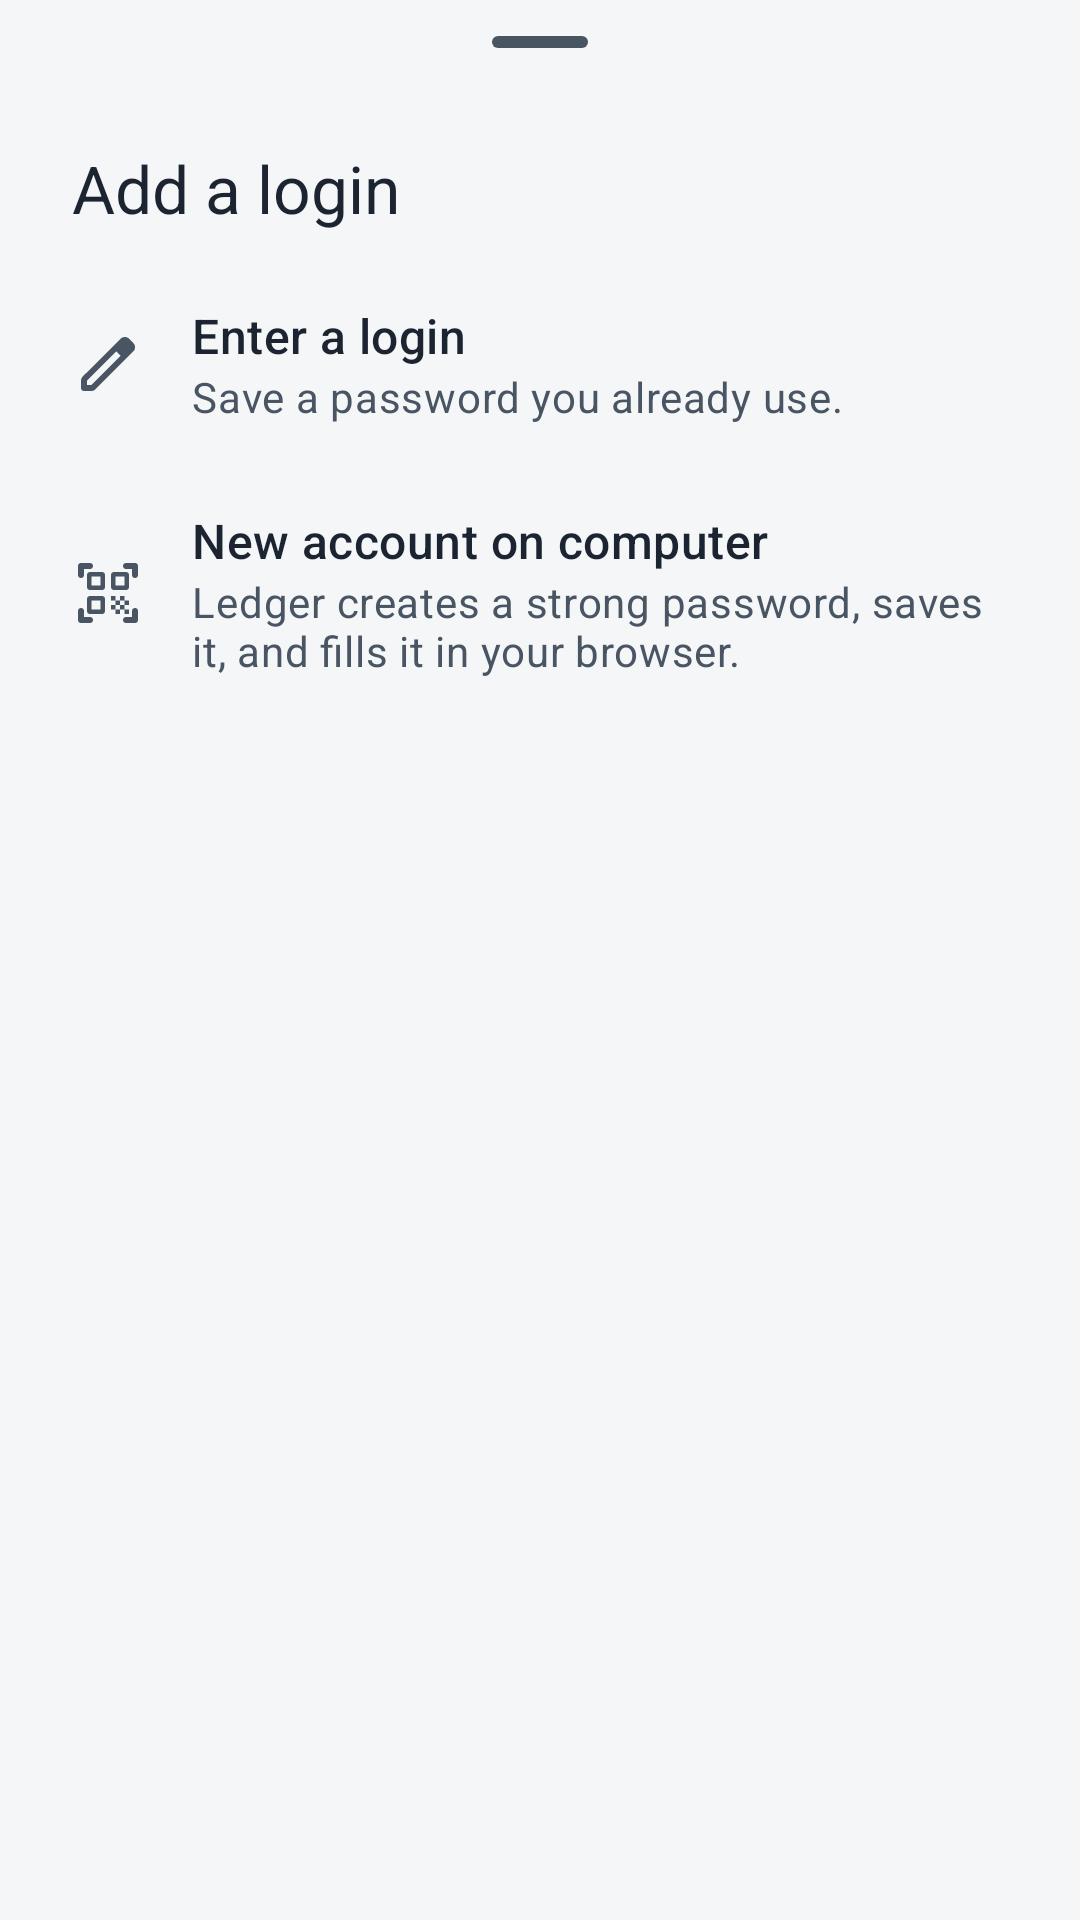

Locate icon controls on the screen. Image size 1080 × 1920, boxes as bbox(x1, y1, x2, y2).
edit: bbox(81, 337, 135, 391)
qr code scanner: bbox(78, 563, 138, 623)
